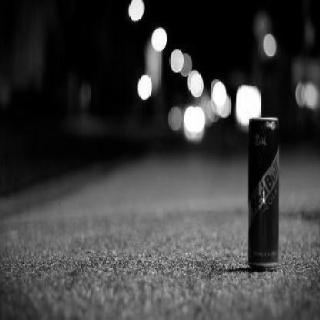alumunium_can: (246, 115, 282, 269)
